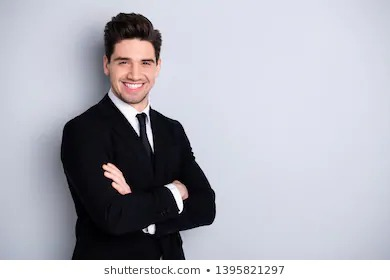F_M_suit jacket: (57, 90, 219, 260)
